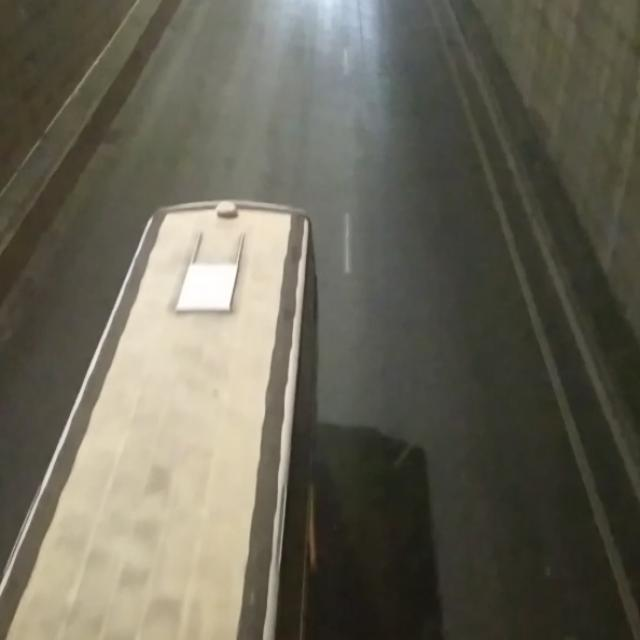bus: (0, 196, 321, 640)
